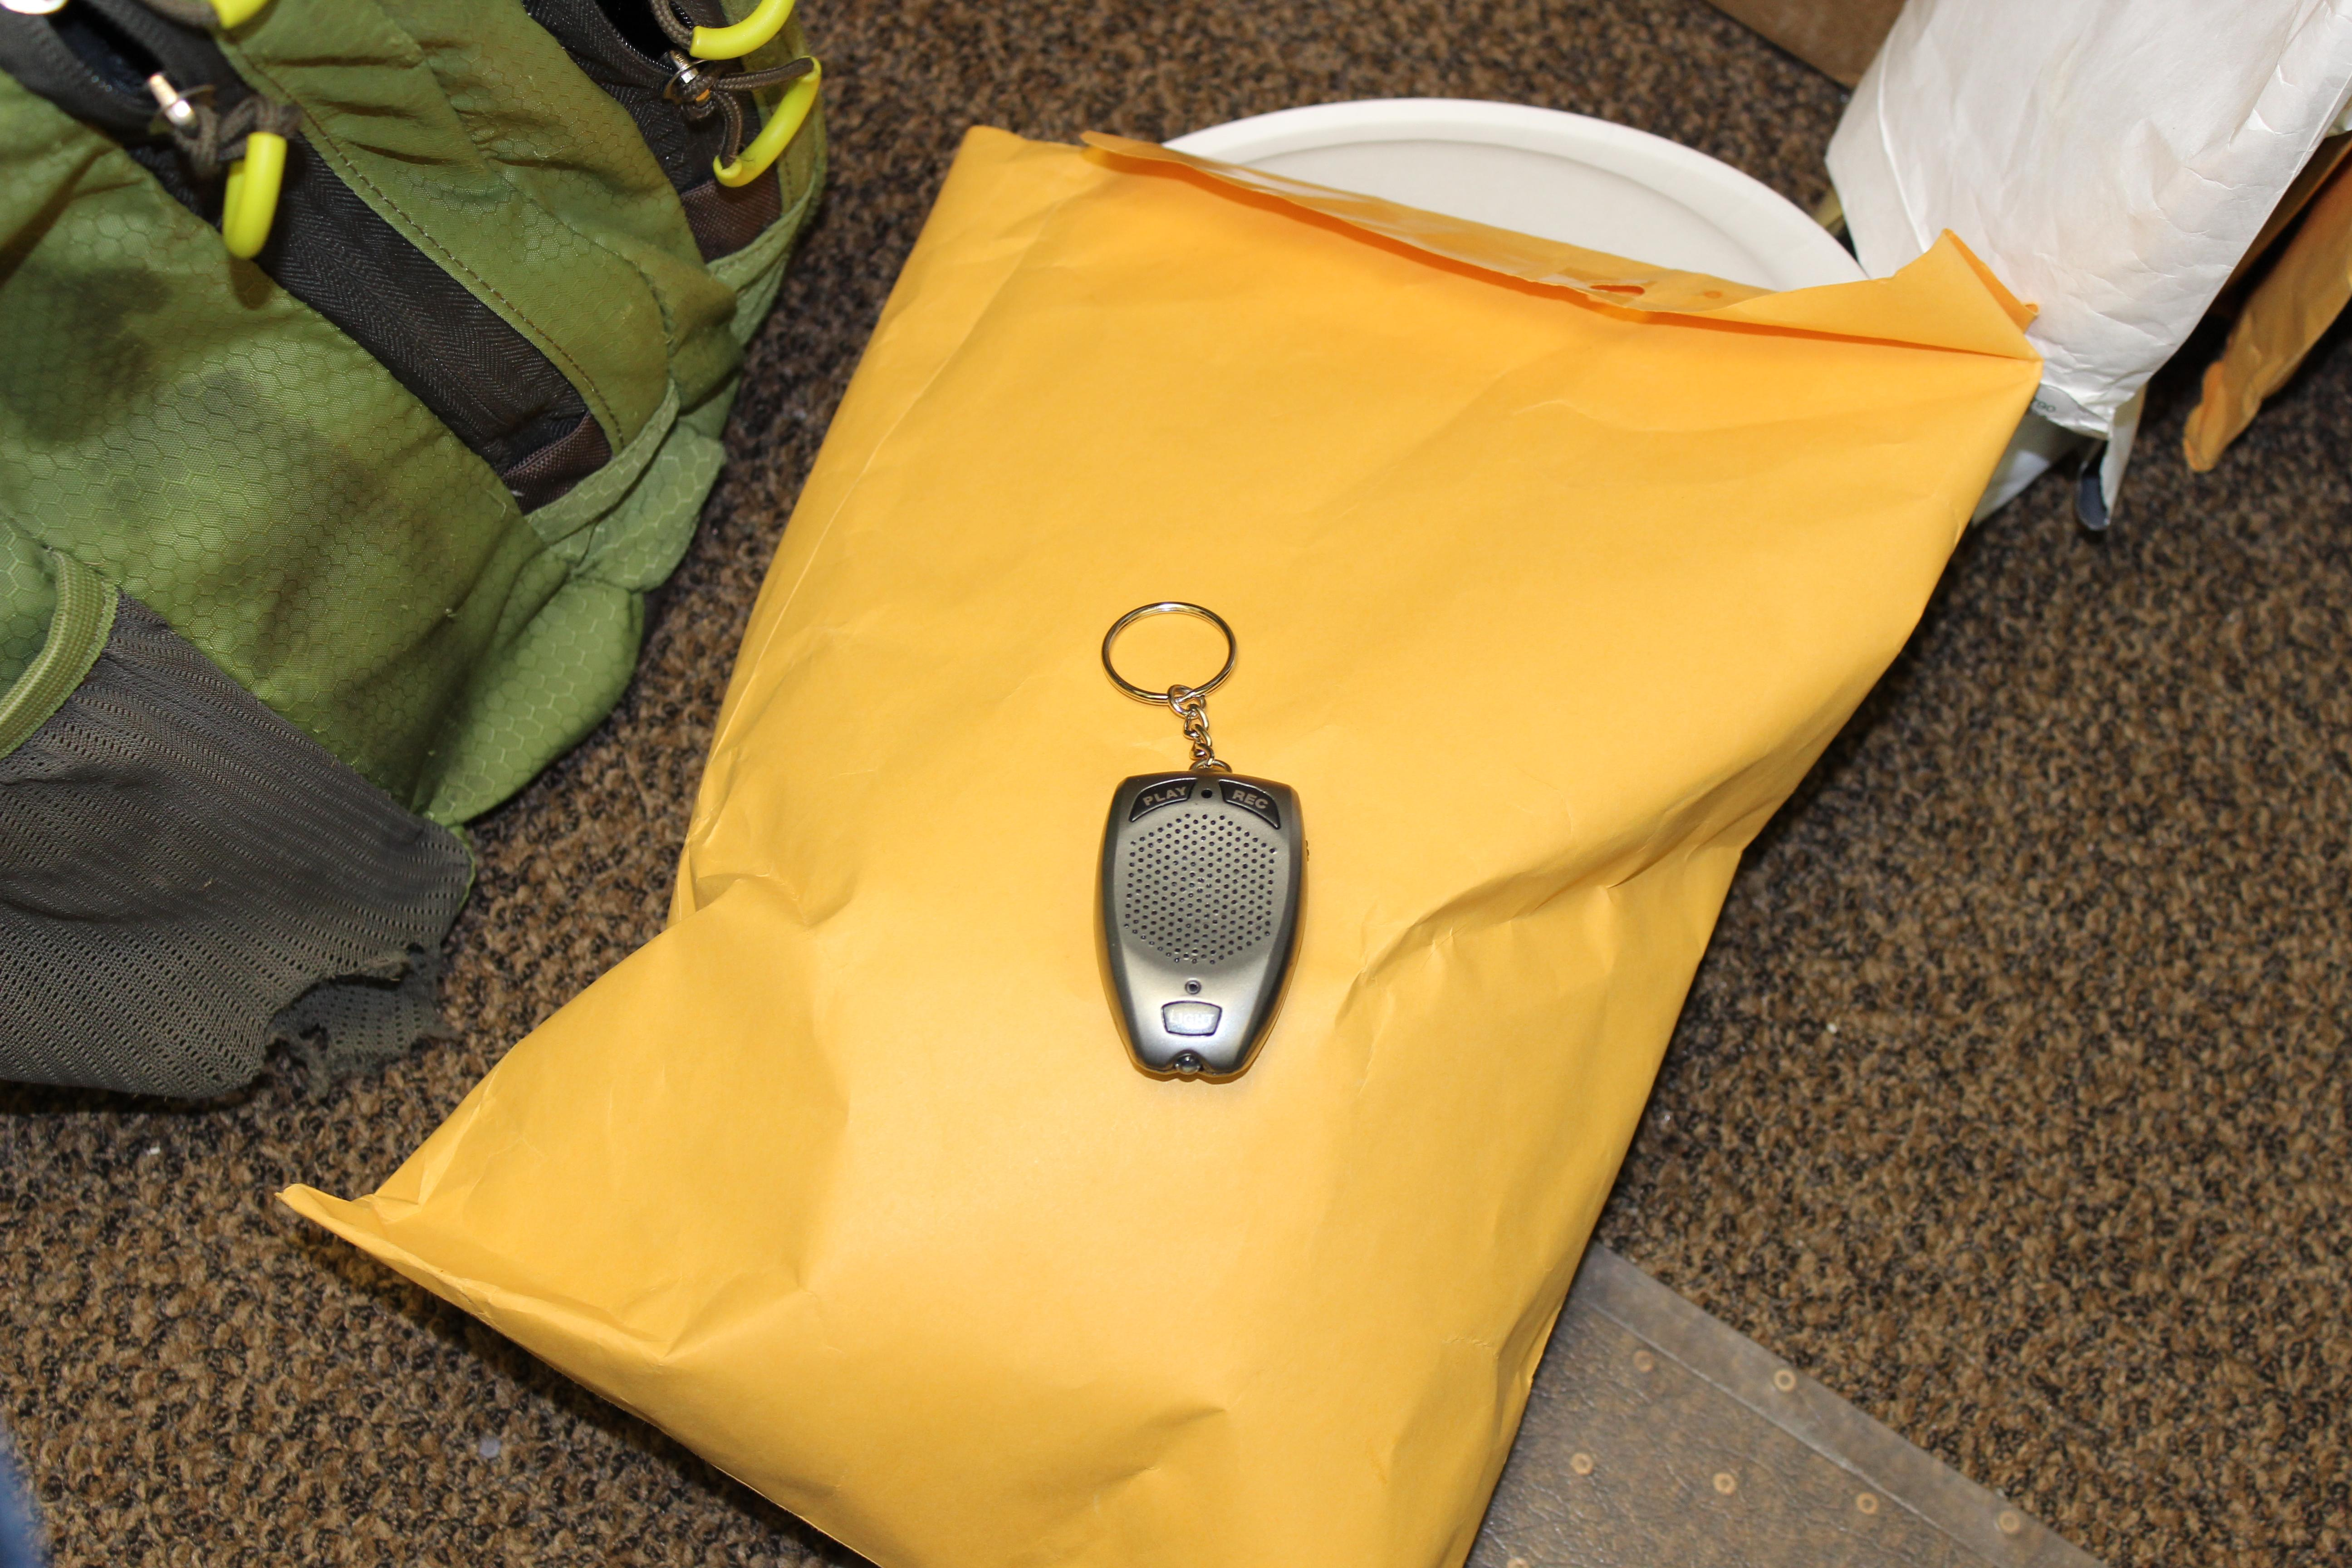voiceRecorder: (1059, 569, 1342, 1122)
